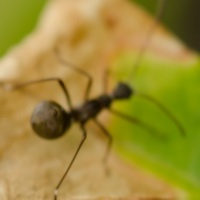insect: (58, 96, 189, 199), (0, 82, 81, 199), (62, 42, 176, 97), (14, 50, 86, 106)
